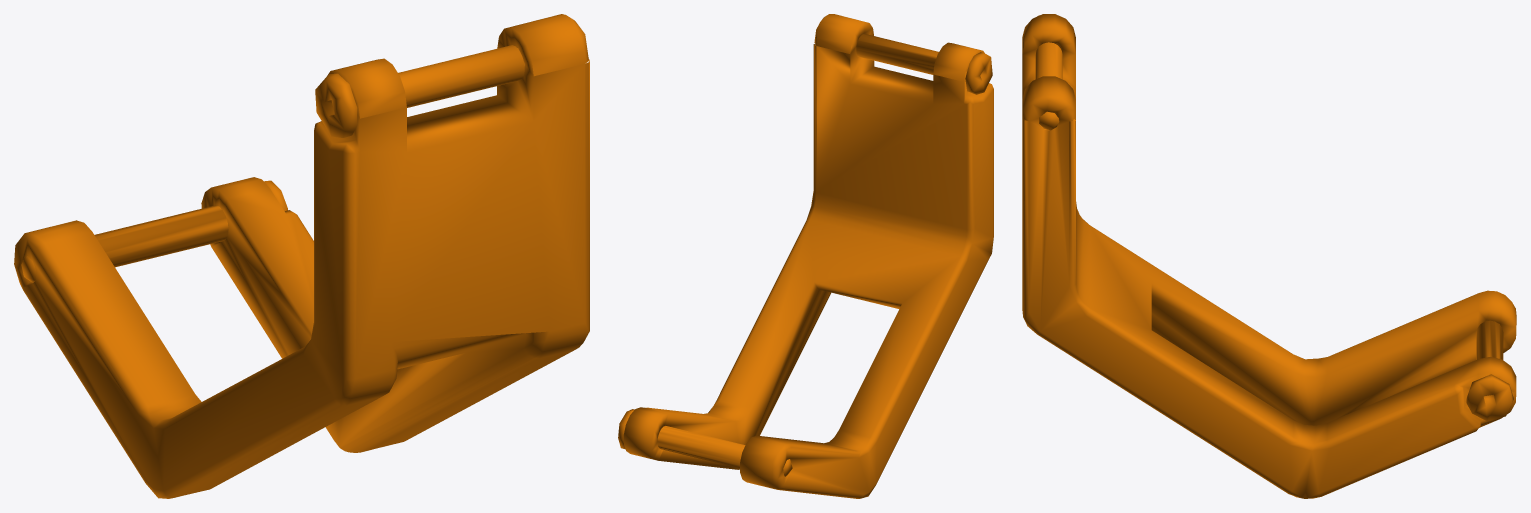
The model's file is inner_single.glb.
3 renders of one model, left to right at view 1: azimuth 30°, elevation 25°; view 2: azimuth 150°, elevation 25°; view 3: azimuth 270°, elevation 25°, orthographic. The views are drawn at different scales.
Visible parts, largest first — view 1: node; view 2: node; view 3: node.
Part boxes in pixels (x1,y1,x2,y2): node: (14, 14, 589, 498); node: (618, 14, 993, 498); node: (1022, 14, 1516, 498).
Bounding box in the file's own units: 0.0312 × 0.0664 × 0.0735.
